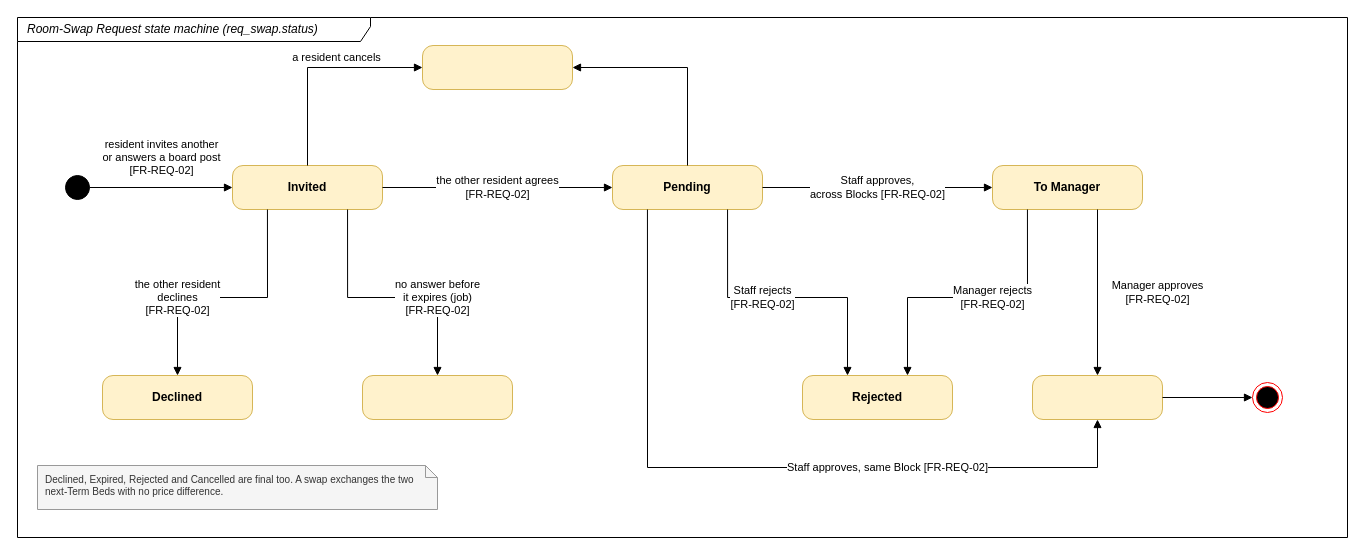
This 1365x555 diagram has some shape labels left out. The centre of each missing label's shape, as x and y in pixels:
"Approved" goes at (x=1097, y=397).
"Cancelled" goes at (x=497, y=67).
"Expired" goes at (x=437, y=397).
